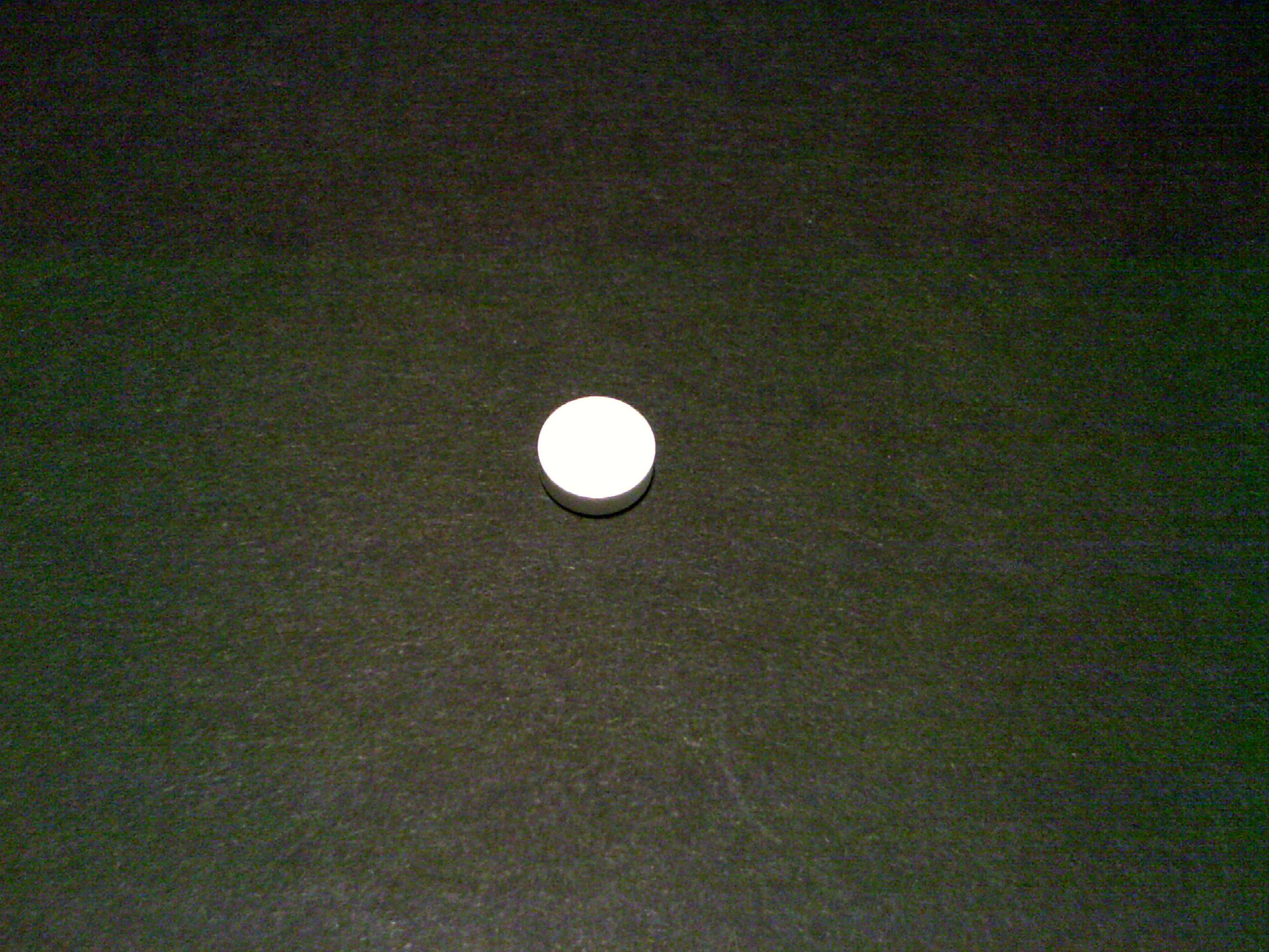Pill: (532, 389, 664, 524)
